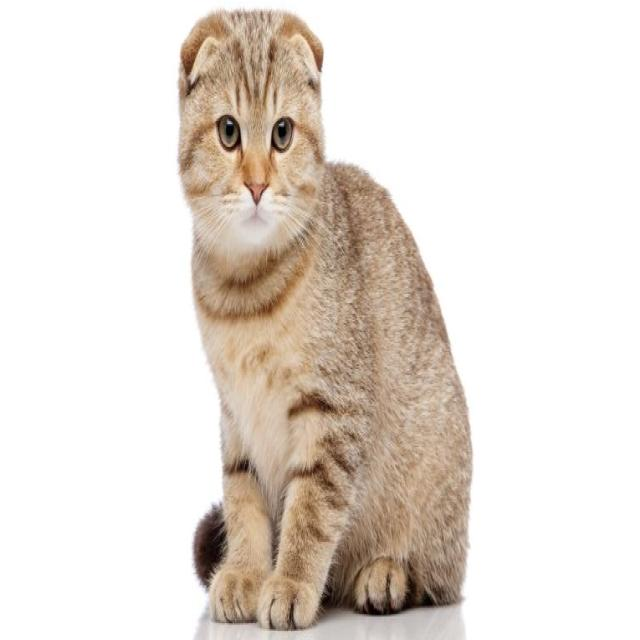Scottish Fold: (174, 3, 475, 635)
